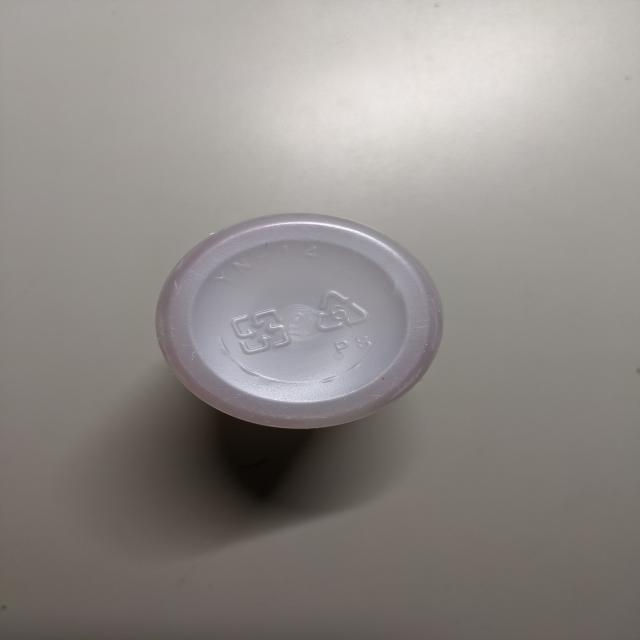Plastic: (150, 208, 448, 430)
